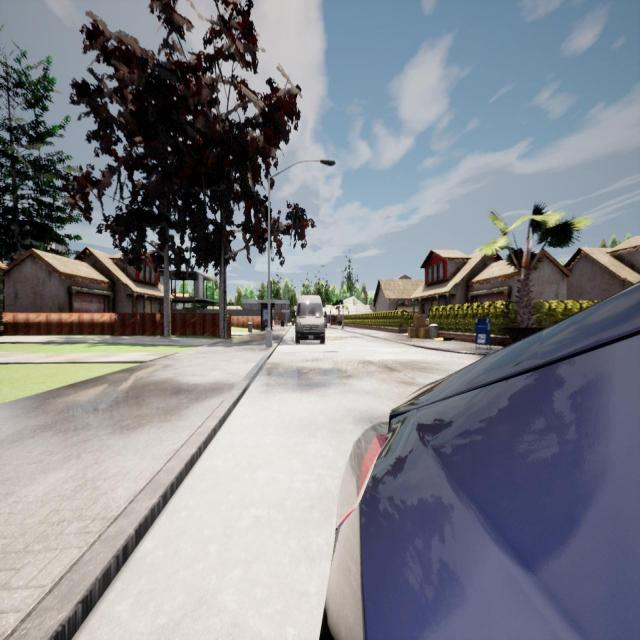Vehicle: (319, 283, 639, 638), (294, 295, 326, 344)
traffic_light: (267, 281, 272, 300)
